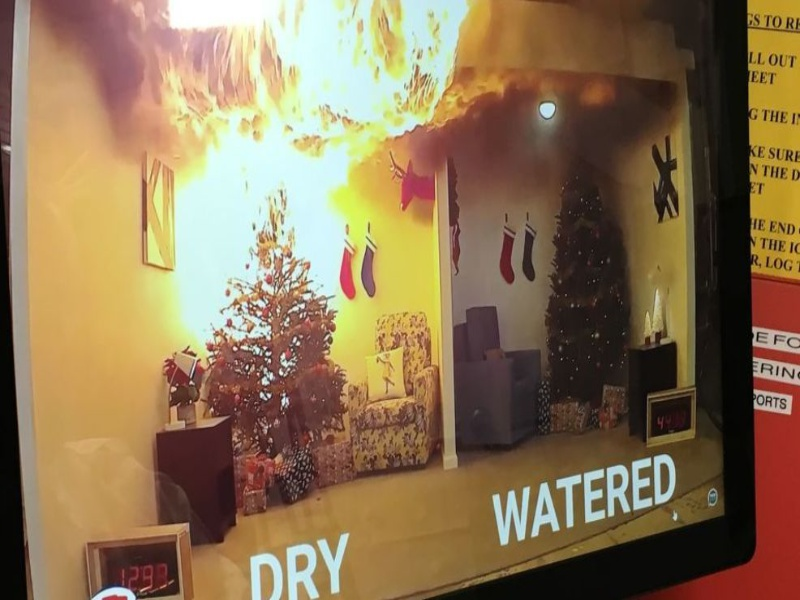fire: (144, 1, 476, 151)
